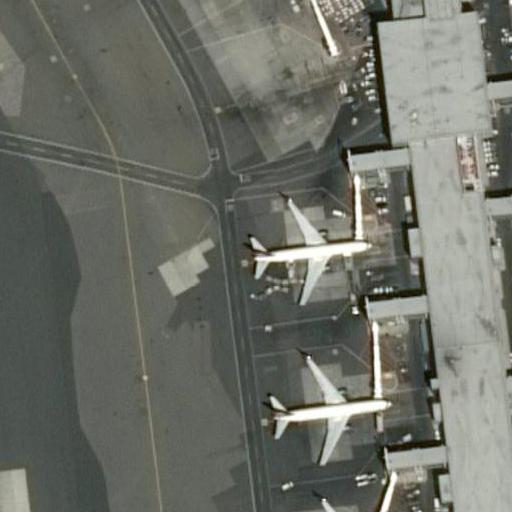Aircraft: (254, 348, 401, 471), (237, 188, 372, 308), (273, 486, 414, 512)
